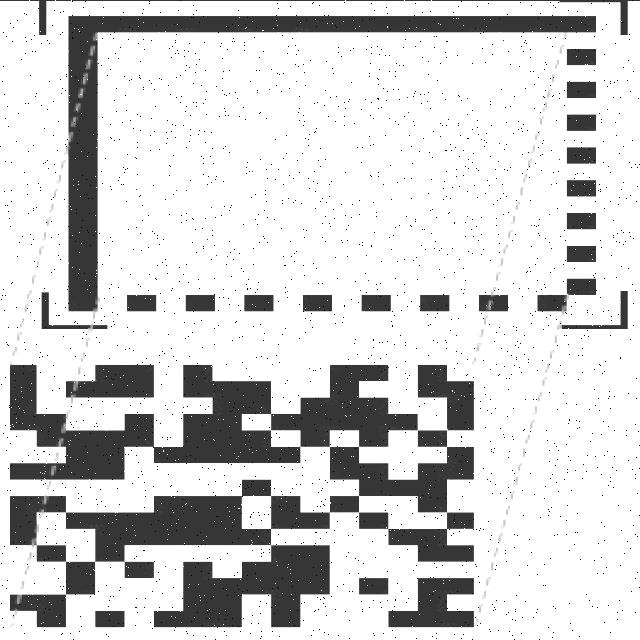datamatrix: (61, 8, 611, 317), (0, 357, 503, 640)
